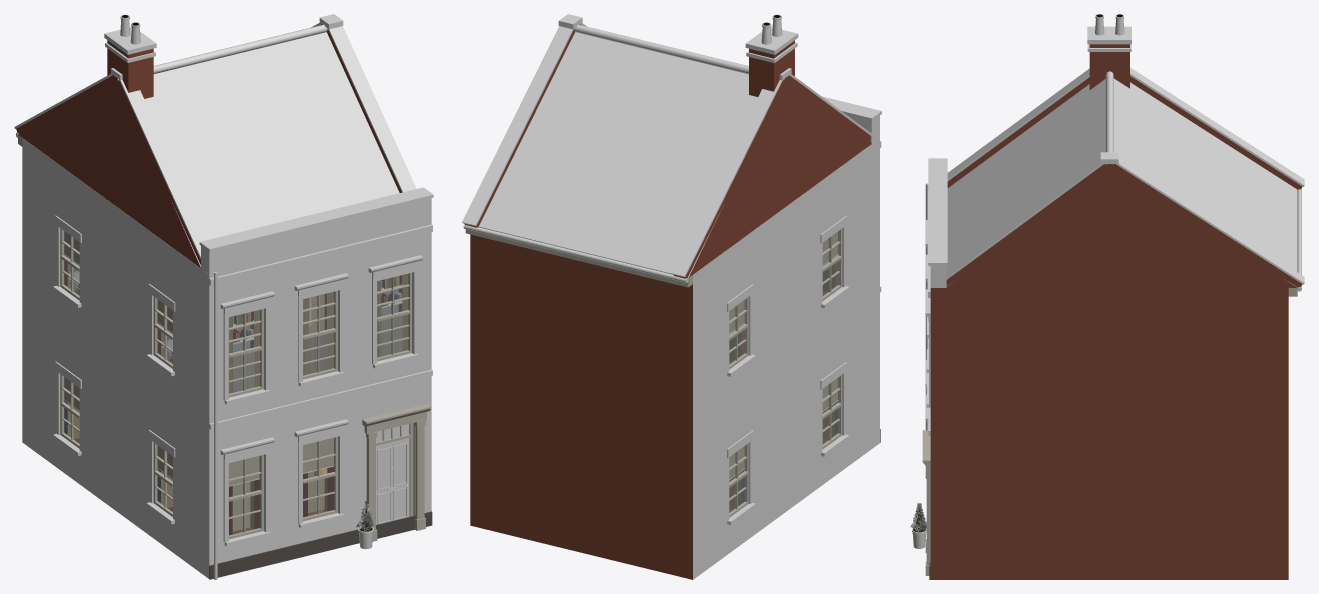
The model's file is terrace_55_side_left.glb.
3 renders of one model, left to right at view 1: azimuth 30°, elevation 25°; view 2: azimuth 150°, elevation 25°; view 3: azimuth 270°, elevation 25°, orthographic. The views are drawn at different scales.
Parts seen in each view (by area): view 1: terrace_55_side; view 2: terrace_55_side; view 3: terrace_55_side.
Boxes of the visible parts, left/top/right/bottom form: terrace_55_side: left=14, top=14, right=433, bottom=579; terrace_55_side: left=462, top=14, right=881, bottom=579; terrace_55_side: left=910, top=14, right=1304, bottom=579.
Size of what is drawn, in the model's own units: 5.61 by 11.51 by 8.82.
